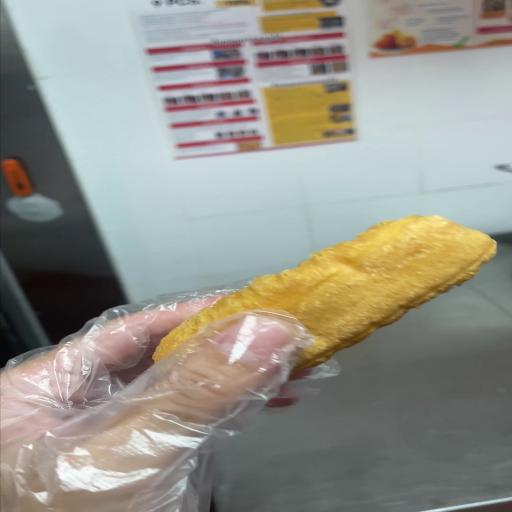brand_golden_good: (153, 216, 495, 369)
